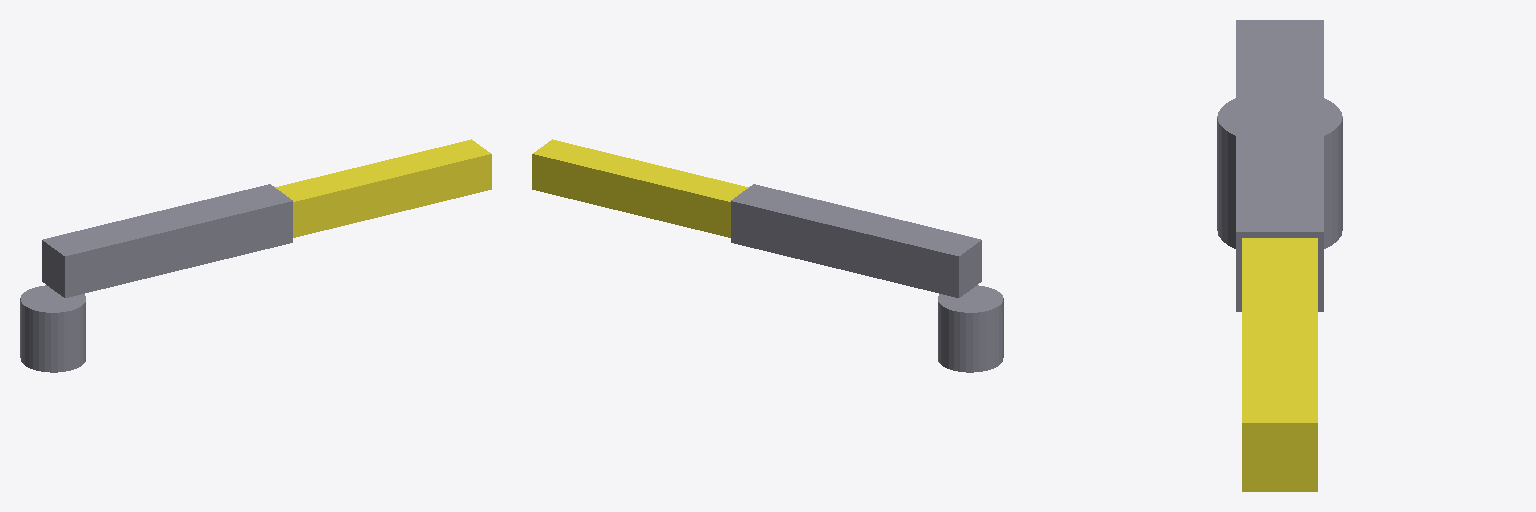
URDF robot description (arm6):
<?xml version="1.0"?>
<!-- A 6-DoF anthropomorphic arm, roughly UR-shaped.
     Six revolute joints are the minimum needed to reach an arbitrary
     position *and* orientation, so IK tests against this fixture actually
     exercise a full pose goal. arm3.urdf stays deliberately underactuated,
     for testing structure rather than reachability. -->
<robot name="arm6">
  <material name="steel"><color rgba="0.6 0.6 0.65 1.0"/></material>

  <link name="base"/>
  <link name="shoulder">
    <visual>
      <geometry><cylinder radius="0.05" length="0.1"/></geometry>
      <material name="steel"/>
    </visual>
  </link>
  <link name="upper_arm">
    <visual>
      <origin xyz="0.2 0 0"/>
      <geometry><box size="0.4 0.07 0.07"/></geometry>
      <material name="steel"/>
    </visual>
  </link>
  <link name="forearm">
    <visual>
      <origin xyz="0.175 0 0"/>
      <geometry><box size="0.35 0.06 0.06"/></geometry>
    </visual>
  </link>
  <link name="wrist_1"/>
  <link name="wrist_2"/>
  <link name="wrist_3"/>
  <link name="tool"/>

  <joint name="joint1" type="revolute">
    <parent link="base"/><child link="shoulder"/>
    <origin xyz="0 0 0.15" rpy="0 0 0"/><axis xyz="0 0 1"/>
    <limit lower="-3.14" upper="3.14" effort="150" velocity="3.15"/>
  </joint>
  <joint name="joint2" type="revolute">
    <parent link="shoulder"/><child link="upper_arm"/>
    <origin xyz="0 0 0.1" rpy="0 0 0"/><axis xyz="0 1 0"/>
    <limit lower="-2.5" upper="2.5" effort="150" velocity="3.15"/>
  </joint>
  <joint name="joint3" type="revolute">
    <parent link="upper_arm"/><child link="forearm"/>
    <origin xyz="0.4 0 0" rpy="0 0 0"/><axis xyz="0 1 0"/>
    <limit lower="-2.8" upper="2.8" effort="150" velocity="3.15"/>
  </joint>
  <joint name="joint4" type="revolute">
    <parent link="forearm"/><child link="wrist_1"/>
    <origin xyz="0.35 0 0" rpy="0 0 0"/><axis xyz="1 0 0"/>
    <limit lower="-3.14" upper="3.14" effort="28" velocity="3.2"/>
  </joint>
  <joint name="joint5" type="revolute">
    <parent link="wrist_1"/><child link="wrist_2"/>
    <origin xyz="0.1 0 0" rpy="0 0 0"/><axis xyz="0 1 0"/>
    <limit lower="-2.0" upper="2.0" effort="28" velocity="3.2"/>
  </joint>
  <joint name="joint6" type="revolute">
    <parent link="wrist_2"/><child link="wrist_3"/>
    <origin xyz="0.08 0 0" rpy="0 0 0"/><axis xyz="1 0 0"/>
    <limit lower="-3.14" upper="3.14" effort="28" velocity="3.2"/>
  </joint>
  <joint name="wrist_to_tool" type="fixed">
    <parent link="wrist_3"/><child link="tool"/>
    <origin xyz="0.05 0 0" rpy="0 0 0"/>
  </joint>
</robot>

--- What the picture shows (computed from the rendered views, not written in the file) ---
Views: 3 orthographic renders of the robot side by side, from view 1: azimuth 30°, elevation 25°; view 2: azimuth 150°, elevation 25°; view 3: azimuth 270°, elevation 25°.
Robot: arm6 — 8 links, 7 joints (6 revolute, 1 fixed); root link base; default pose: all joints at 0.
Visible links, largest first — view 1: upper_arm, forearm, shoulder; view 2: upper_arm, forearm, shoulder; view 3: upper_arm, forearm, shoulder.
Link boxes in pixels (x1=…): upper_arm: x1=42, y1=184, x2=292, y2=297; forearm: x1=275, y1=139, x2=491, y2=237; shoulder: x1=20, y1=285, x2=85, y2=372; upper_arm: x1=731, y1=184, x2=981, y2=297; forearm: x1=532, y1=139, x2=748, y2=237; shoulder: x1=938, y1=285, x2=1003, y2=372; upper_arm: x1=1236, y1=20, x2=1323, y2=311; forearm: x1=1242, y1=238, x2=1317, y2=491; shoulder: x1=1217, y1=98, x2=1342, y2=248.
Bounding box of the posed robot: 0.8 × 0.1 × 0.185 m (x, y, z).
Geometry: primitives only (box / cylinder / sphere), no mesh files.
